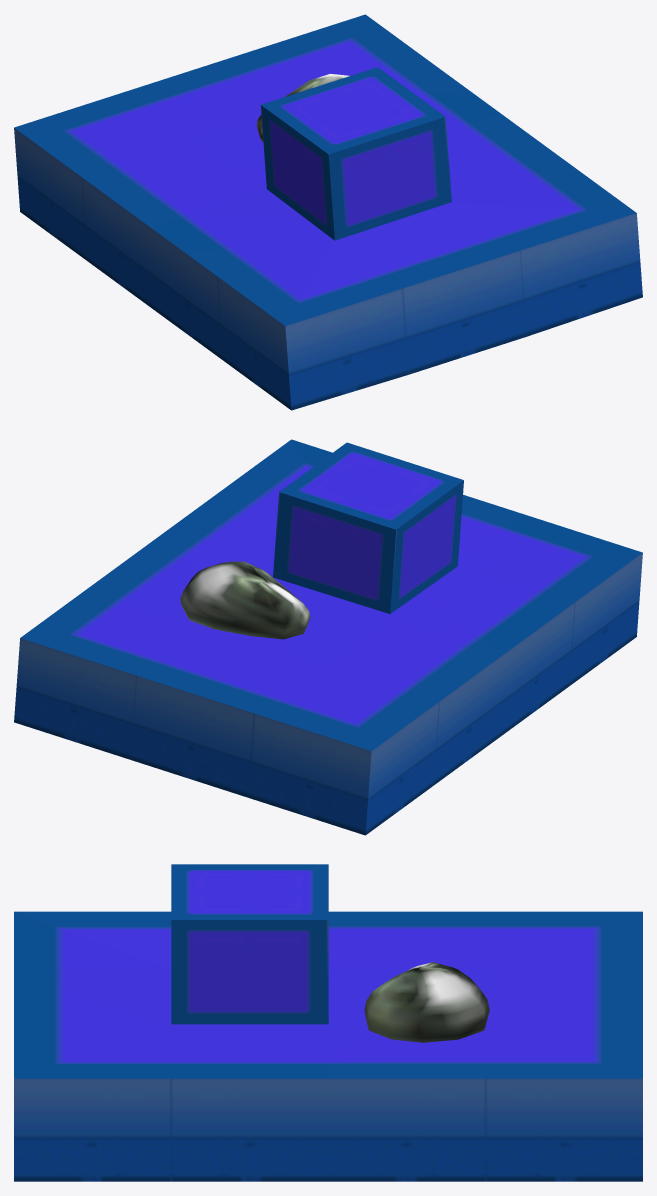
Rendered from ps2mc0.ico.obj.
3 renders of one model, top to bottom at view 1: azimuth 30°, elevation 25°; view 2: azimuth 150°, elevation 25°; view 3: azimuth 270°, elevation 25°, orthographic. The views are drawn at different scales.
Bounding box in the file's own units: 3.37 × 1.71 × 4.42.
Materials: 1 (1 with a texture image).
